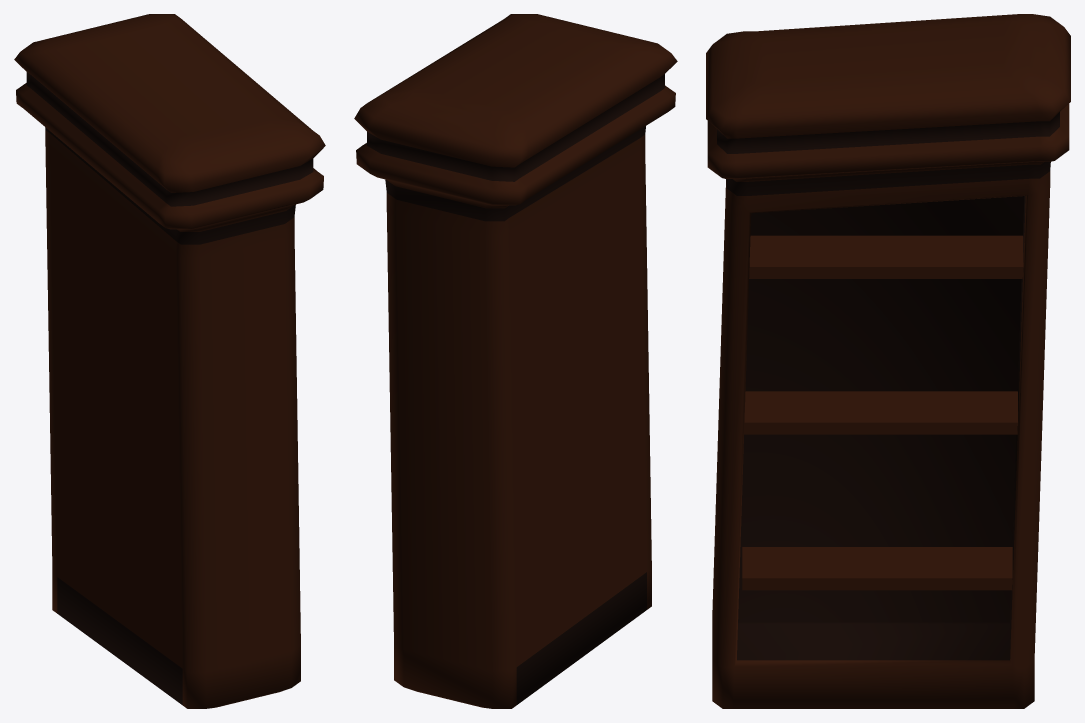
Rendered from Bookshelf.fbx.
3 renders of one model, left to right at view 1: azimuth 30°, elevation 25°; view 2: azimuth 150°, elevation 25°; view 3: azimuth 270°, elevation 25°, orthographic. The views are drawn at different scales.
Parts seen in each view (by area): view 1: Box001; view 2: Box001; view 3: Box001, Box002.
Part boxes in pixels (<box>): Box001: <box>14,14,325,708</box>; Box001: <box>354,14,677,708</box>; Box001: <box>706,14,1070,708</box>; Box002: <box>742,235,1023,590</box>.
Bounding box in the file's own units: 21.09 × 71.13 × 36.94.
